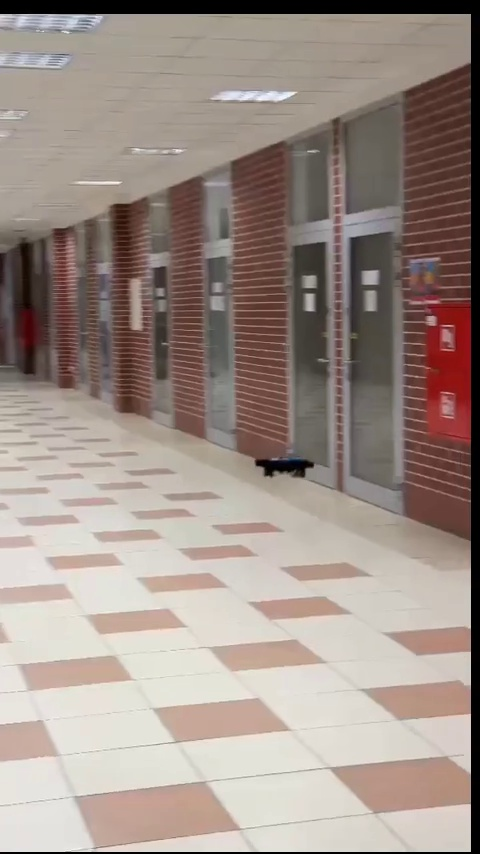drone: (252, 452, 319, 479)
